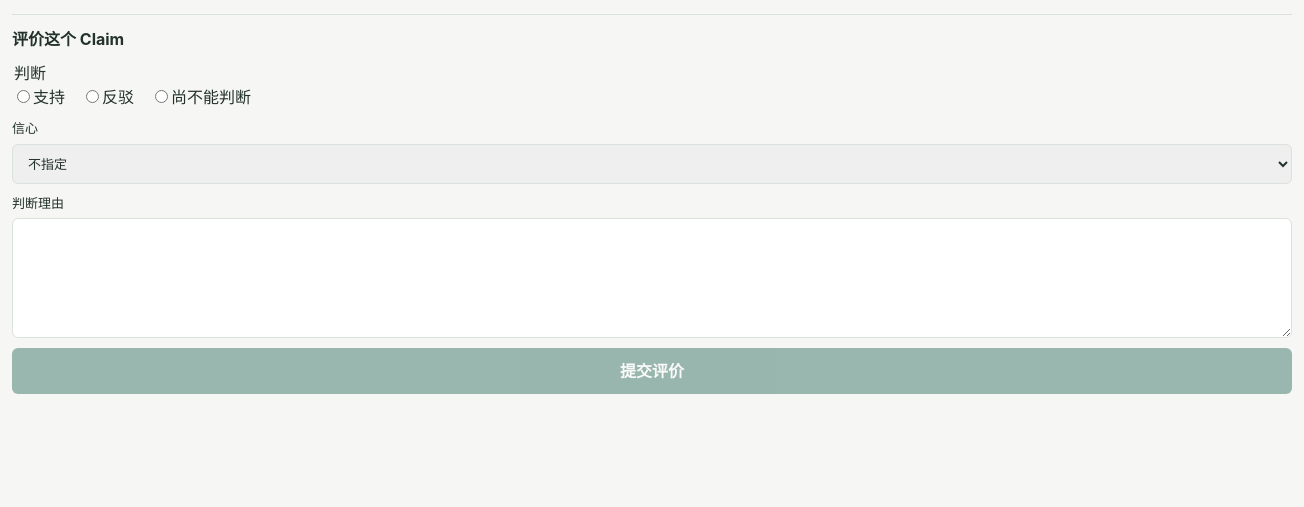
Test case: known POST failures › unavailable evidence clears receipt and requests candidate refresh
Click the radio button labelled "支持" at {"x": 24, "y": 96}, box [17,90,30,103]
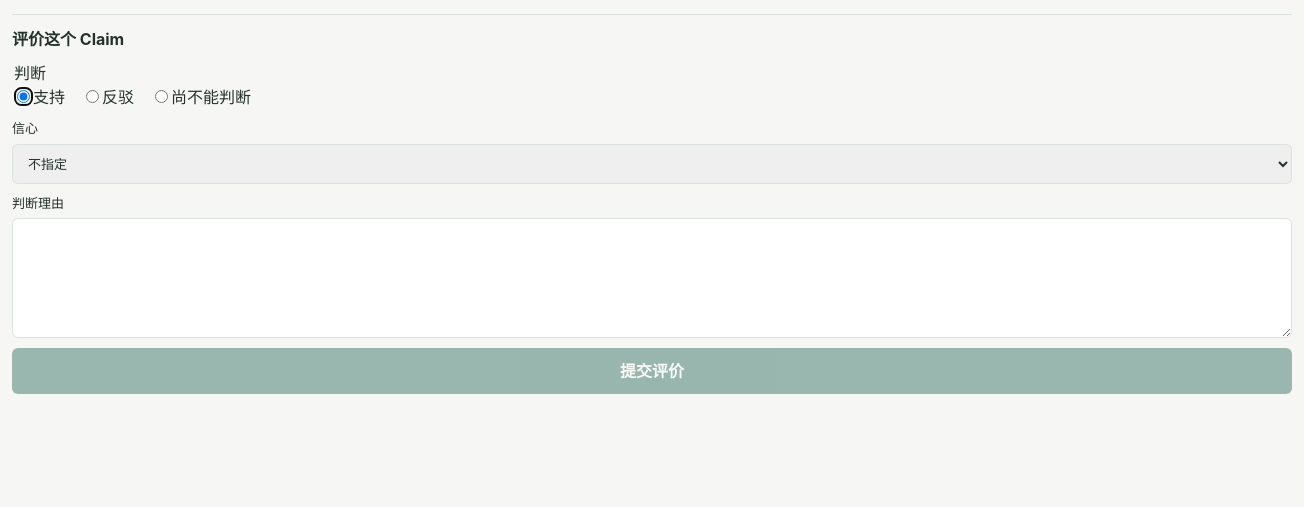
Type "当前证据支持。" into the text box labelled "判断理由" at {"x": 652, "y": 278}, box [12,218,1292,338]
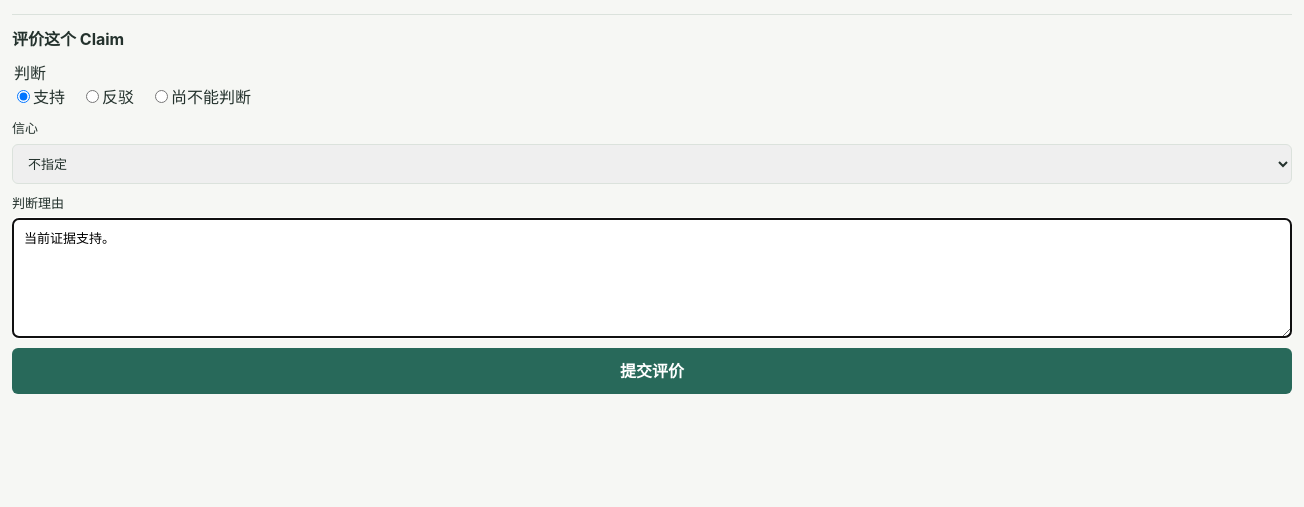
Click the button "提交评价" at {"x": 652, "y": 370}, box [12,348,1292,394]
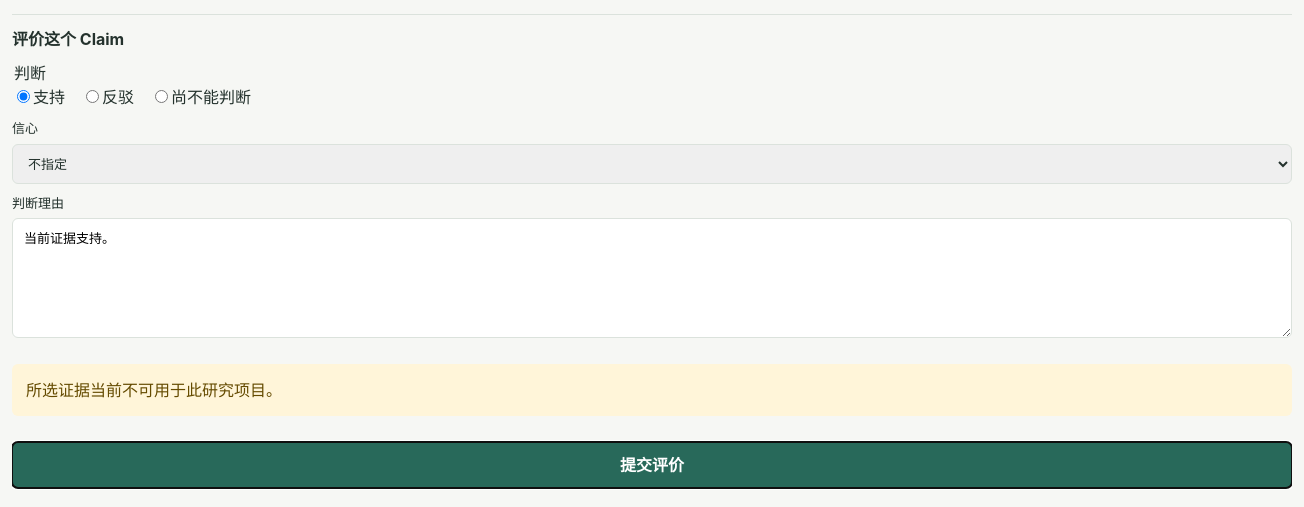
Expected: the text "所选证据当前不可用于此研究项目。" is shown, [12,364,1292,416]
